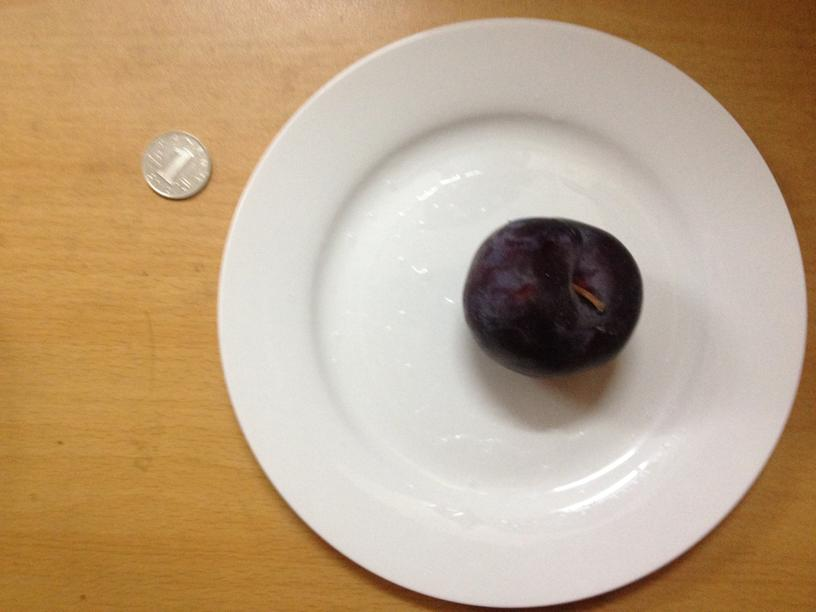coin: (141, 128, 212, 200)
plum: (460, 219, 642, 376)
